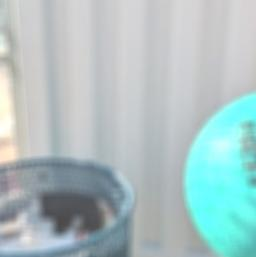algae: (0, 149, 133, 257), (180, 83, 256, 257)
